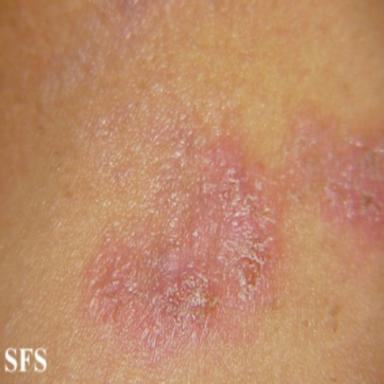Hailey-Hailey-Disease: (82, 97, 384, 353)
